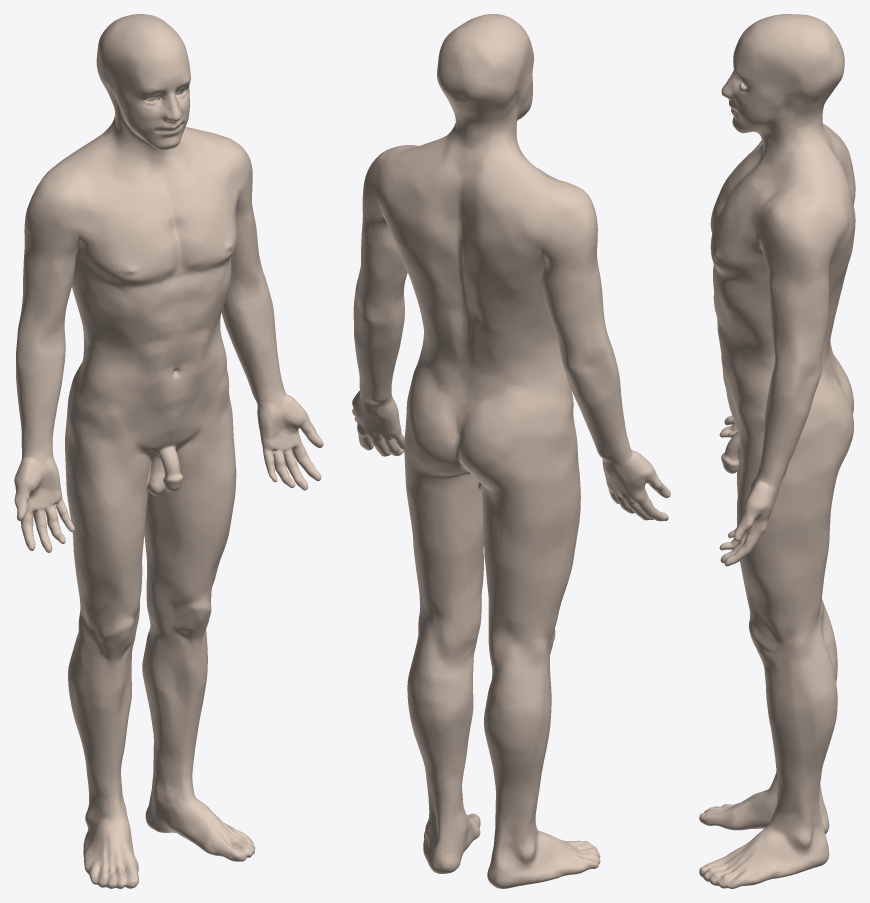
File: skin.glb
3 renders of one model, left to right at view 1: azimuth 30°, elevation 25°; view 2: azimuth 150°, elevation 25°; view 3: azimuth 270°, elevation 25°, orthographic. The views are drawn at different scales.
Visible parts, largest first — view 1: skin; view 2: skin; view 3: skin.
Part boxes in pixels (x1=…): skin: x1=14, y1=14, x2=323, y2=888; skin: x1=352, y1=14, x2=670, y2=888; skin: x1=699, y1=14, x2=855, y2=888.
Size of the model in its own units: 0.6634 by 1.71 by 0.2904.
